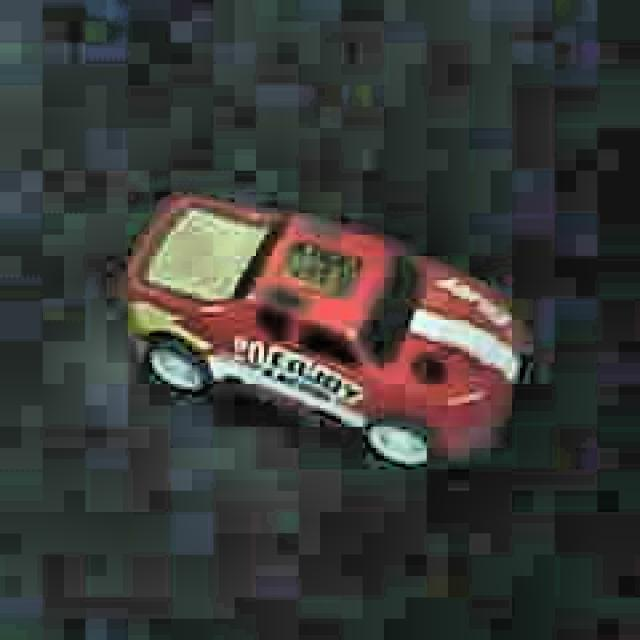car: (119, 183, 521, 476)
